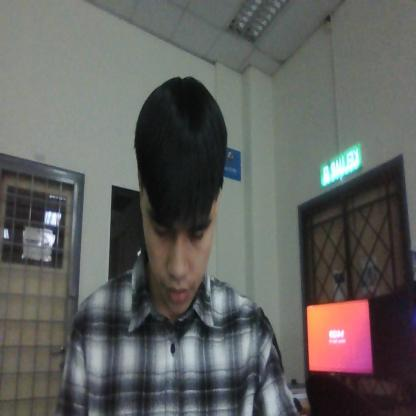Closed-Eyes: (149, 214, 211, 251)
